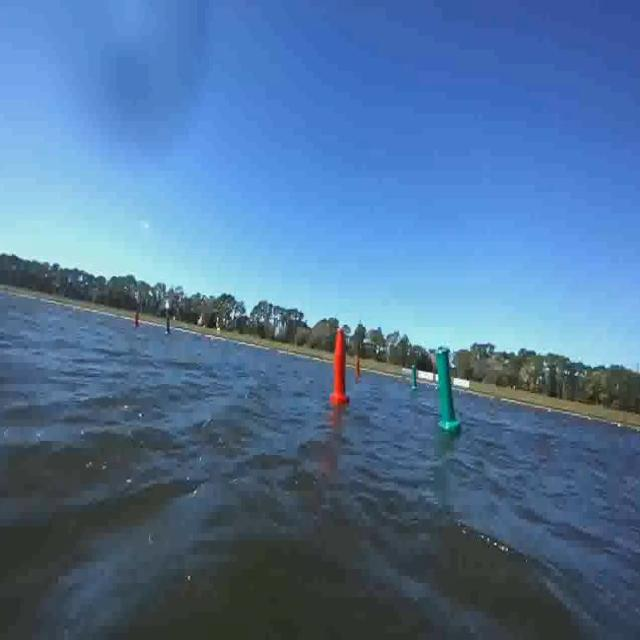green-column-buoy: (436, 348, 463, 437), (412, 366, 419, 392), (163, 313, 170, 338)
red-column-buoy: (332, 326, 351, 406), (354, 352, 362, 380), (134, 306, 142, 326)
